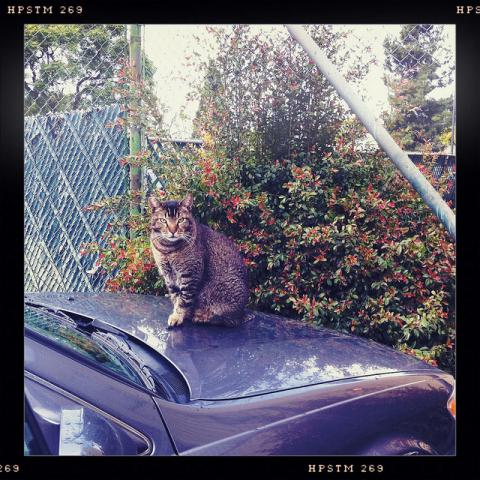car: (26, 285, 456, 461)
